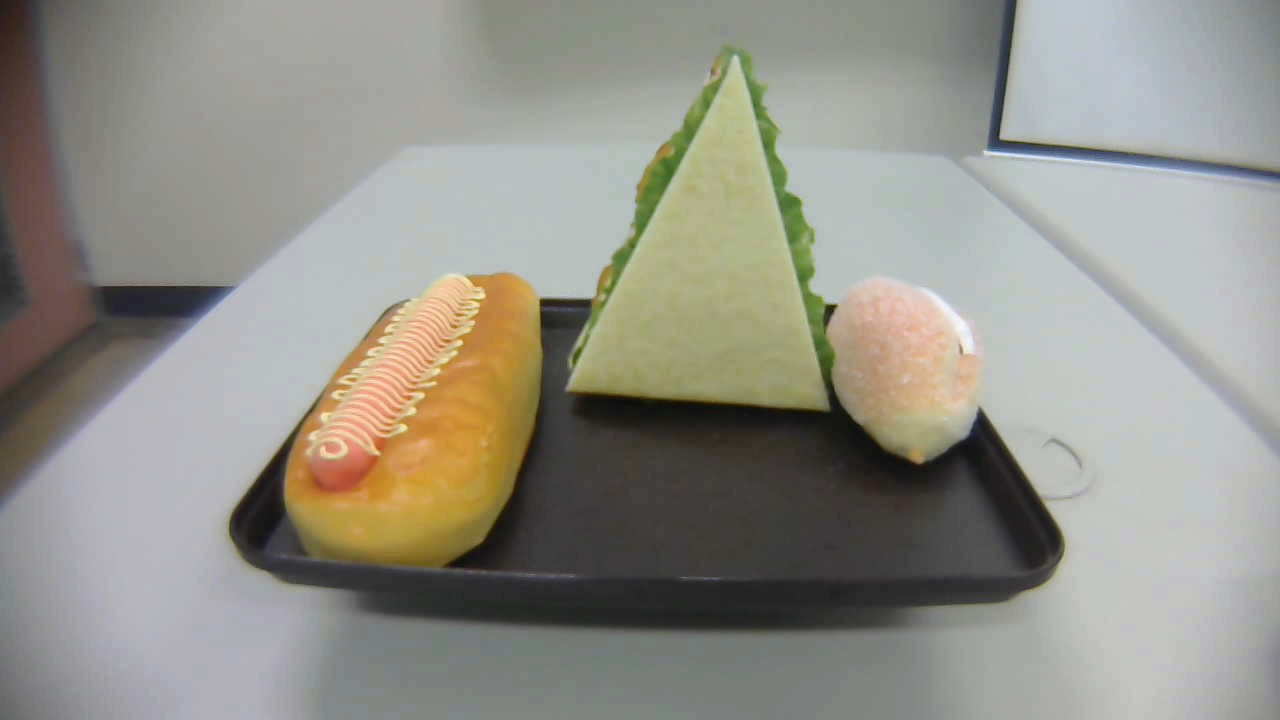coconut: (827, 277, 980, 467)
hot dog: (284, 273, 543, 577)
sandwich: (564, 49, 832, 413)
